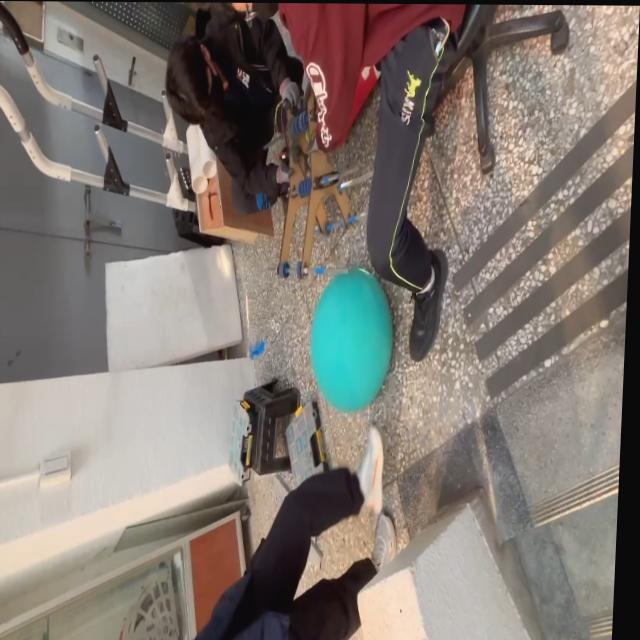ALGAE: (307, 266, 397, 415)
